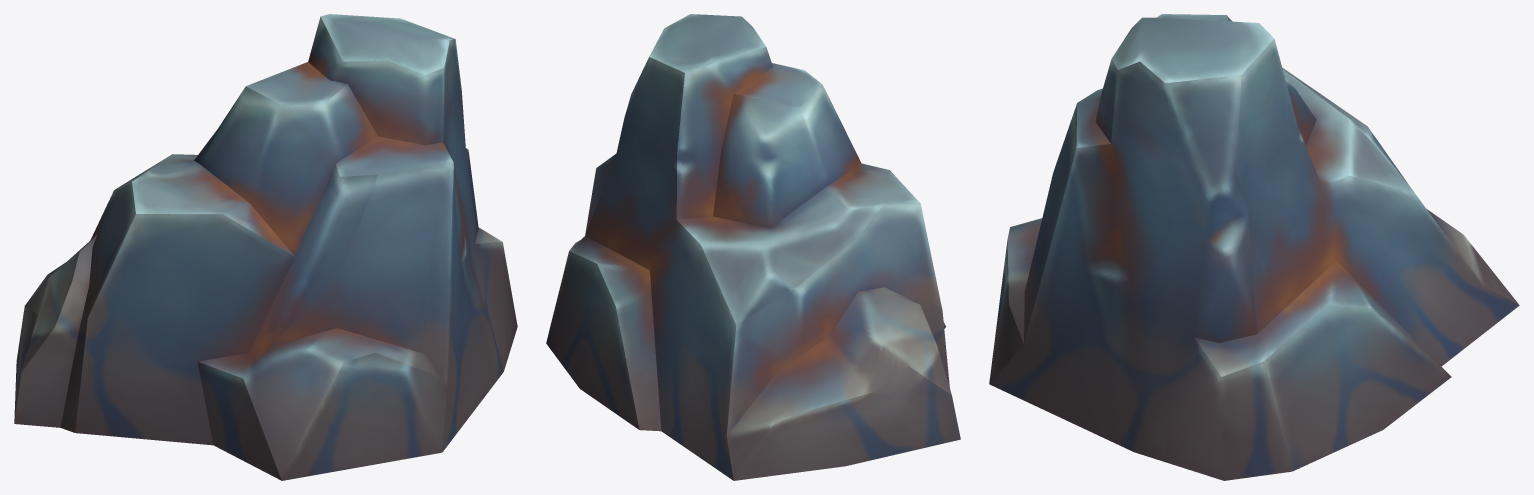
File: field_rocks_iron_08.fbx
3 views of the same model, side by side, from view 1: azimuth 30°, elevation 25°; view 2: azimuth 150°, elevation 25°; view 3: azimuth 270°, elevation 25° (orthographic). The views are drawn at different scales.
Parts seen in each view (by area): view 1: field_rocks_iron_08; view 2: field_rocks_iron_08; view 3: field_rocks_iron_08.
Boxes of the visible parts, x1,y1,x2,y2 form: field_rocks_iron_08: (14,14,517,480); field_rocks_iron_08: (546,14,960,480); field_rocks_iron_08: (989,14,1519,480).
Bounding box in the file's own units: 146 × 104 × 132.
